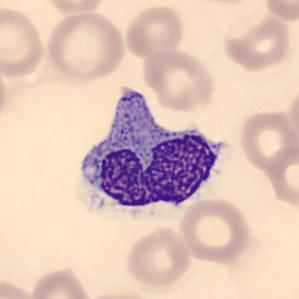Monocyte: (67, 81, 232, 225)
RBC: (43, 9, 128, 83), (140, 46, 219, 113), (177, 196, 252, 265), (123, 225, 194, 289), (222, 13, 294, 72), (237, 108, 297, 173), (122, 2, 186, 60), (0, 4, 47, 80), (27, 265, 94, 299), (265, 141, 299, 208), (38, 0, 108, 15), (0, 275, 39, 299), (260, 0, 298, 23), (82, 289, 157, 299), (0, 60, 10, 128), (287, 84, 298, 142), (187, 0, 262, 7)
